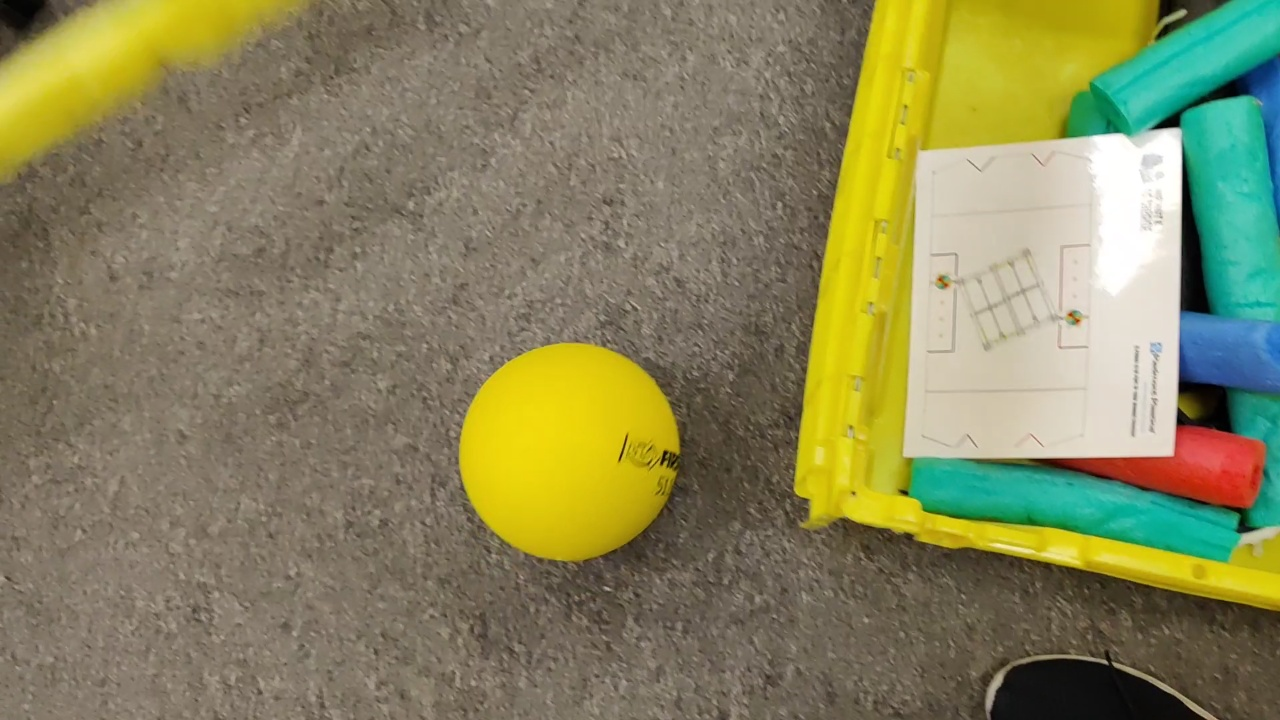Ball: (459, 341, 683, 566)
